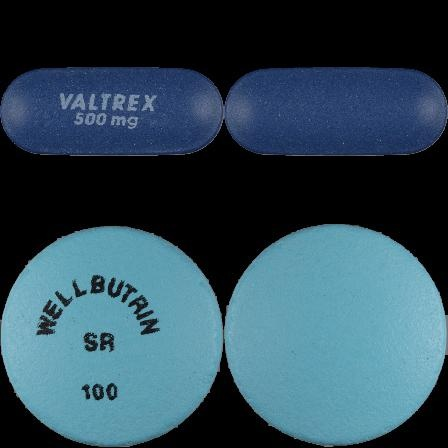0173-0933: (0, 0, 224, 224)
